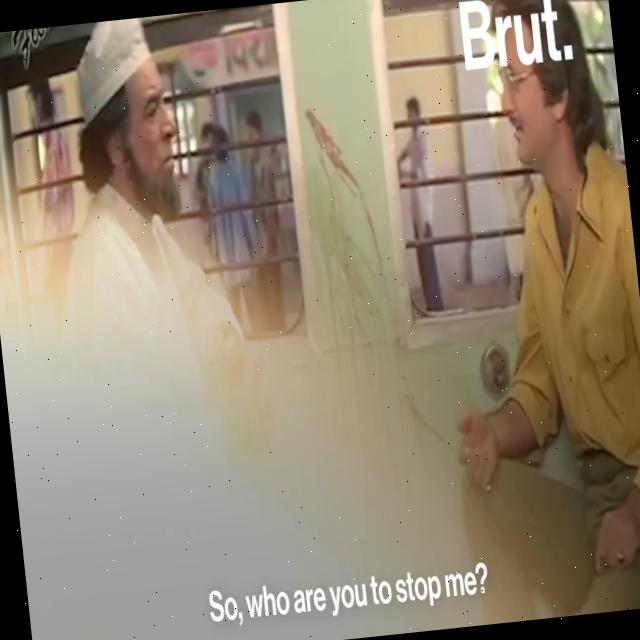spit: (300, 105, 382, 275)
